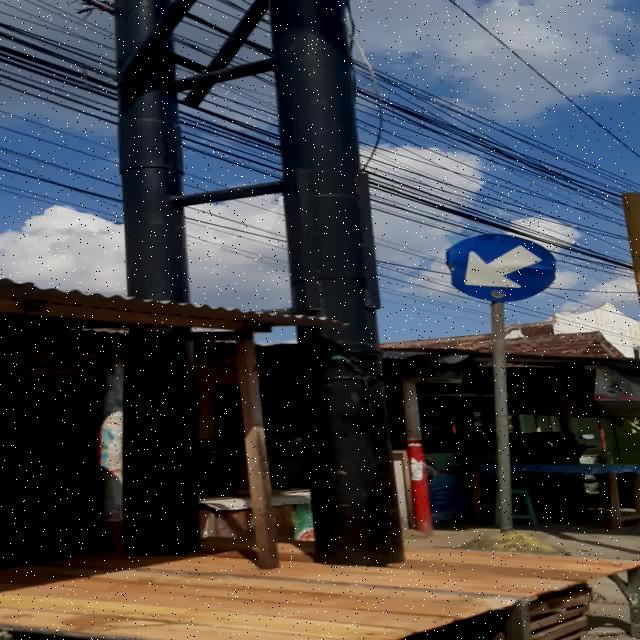Lajur Kiri: (446, 234, 555, 302)
